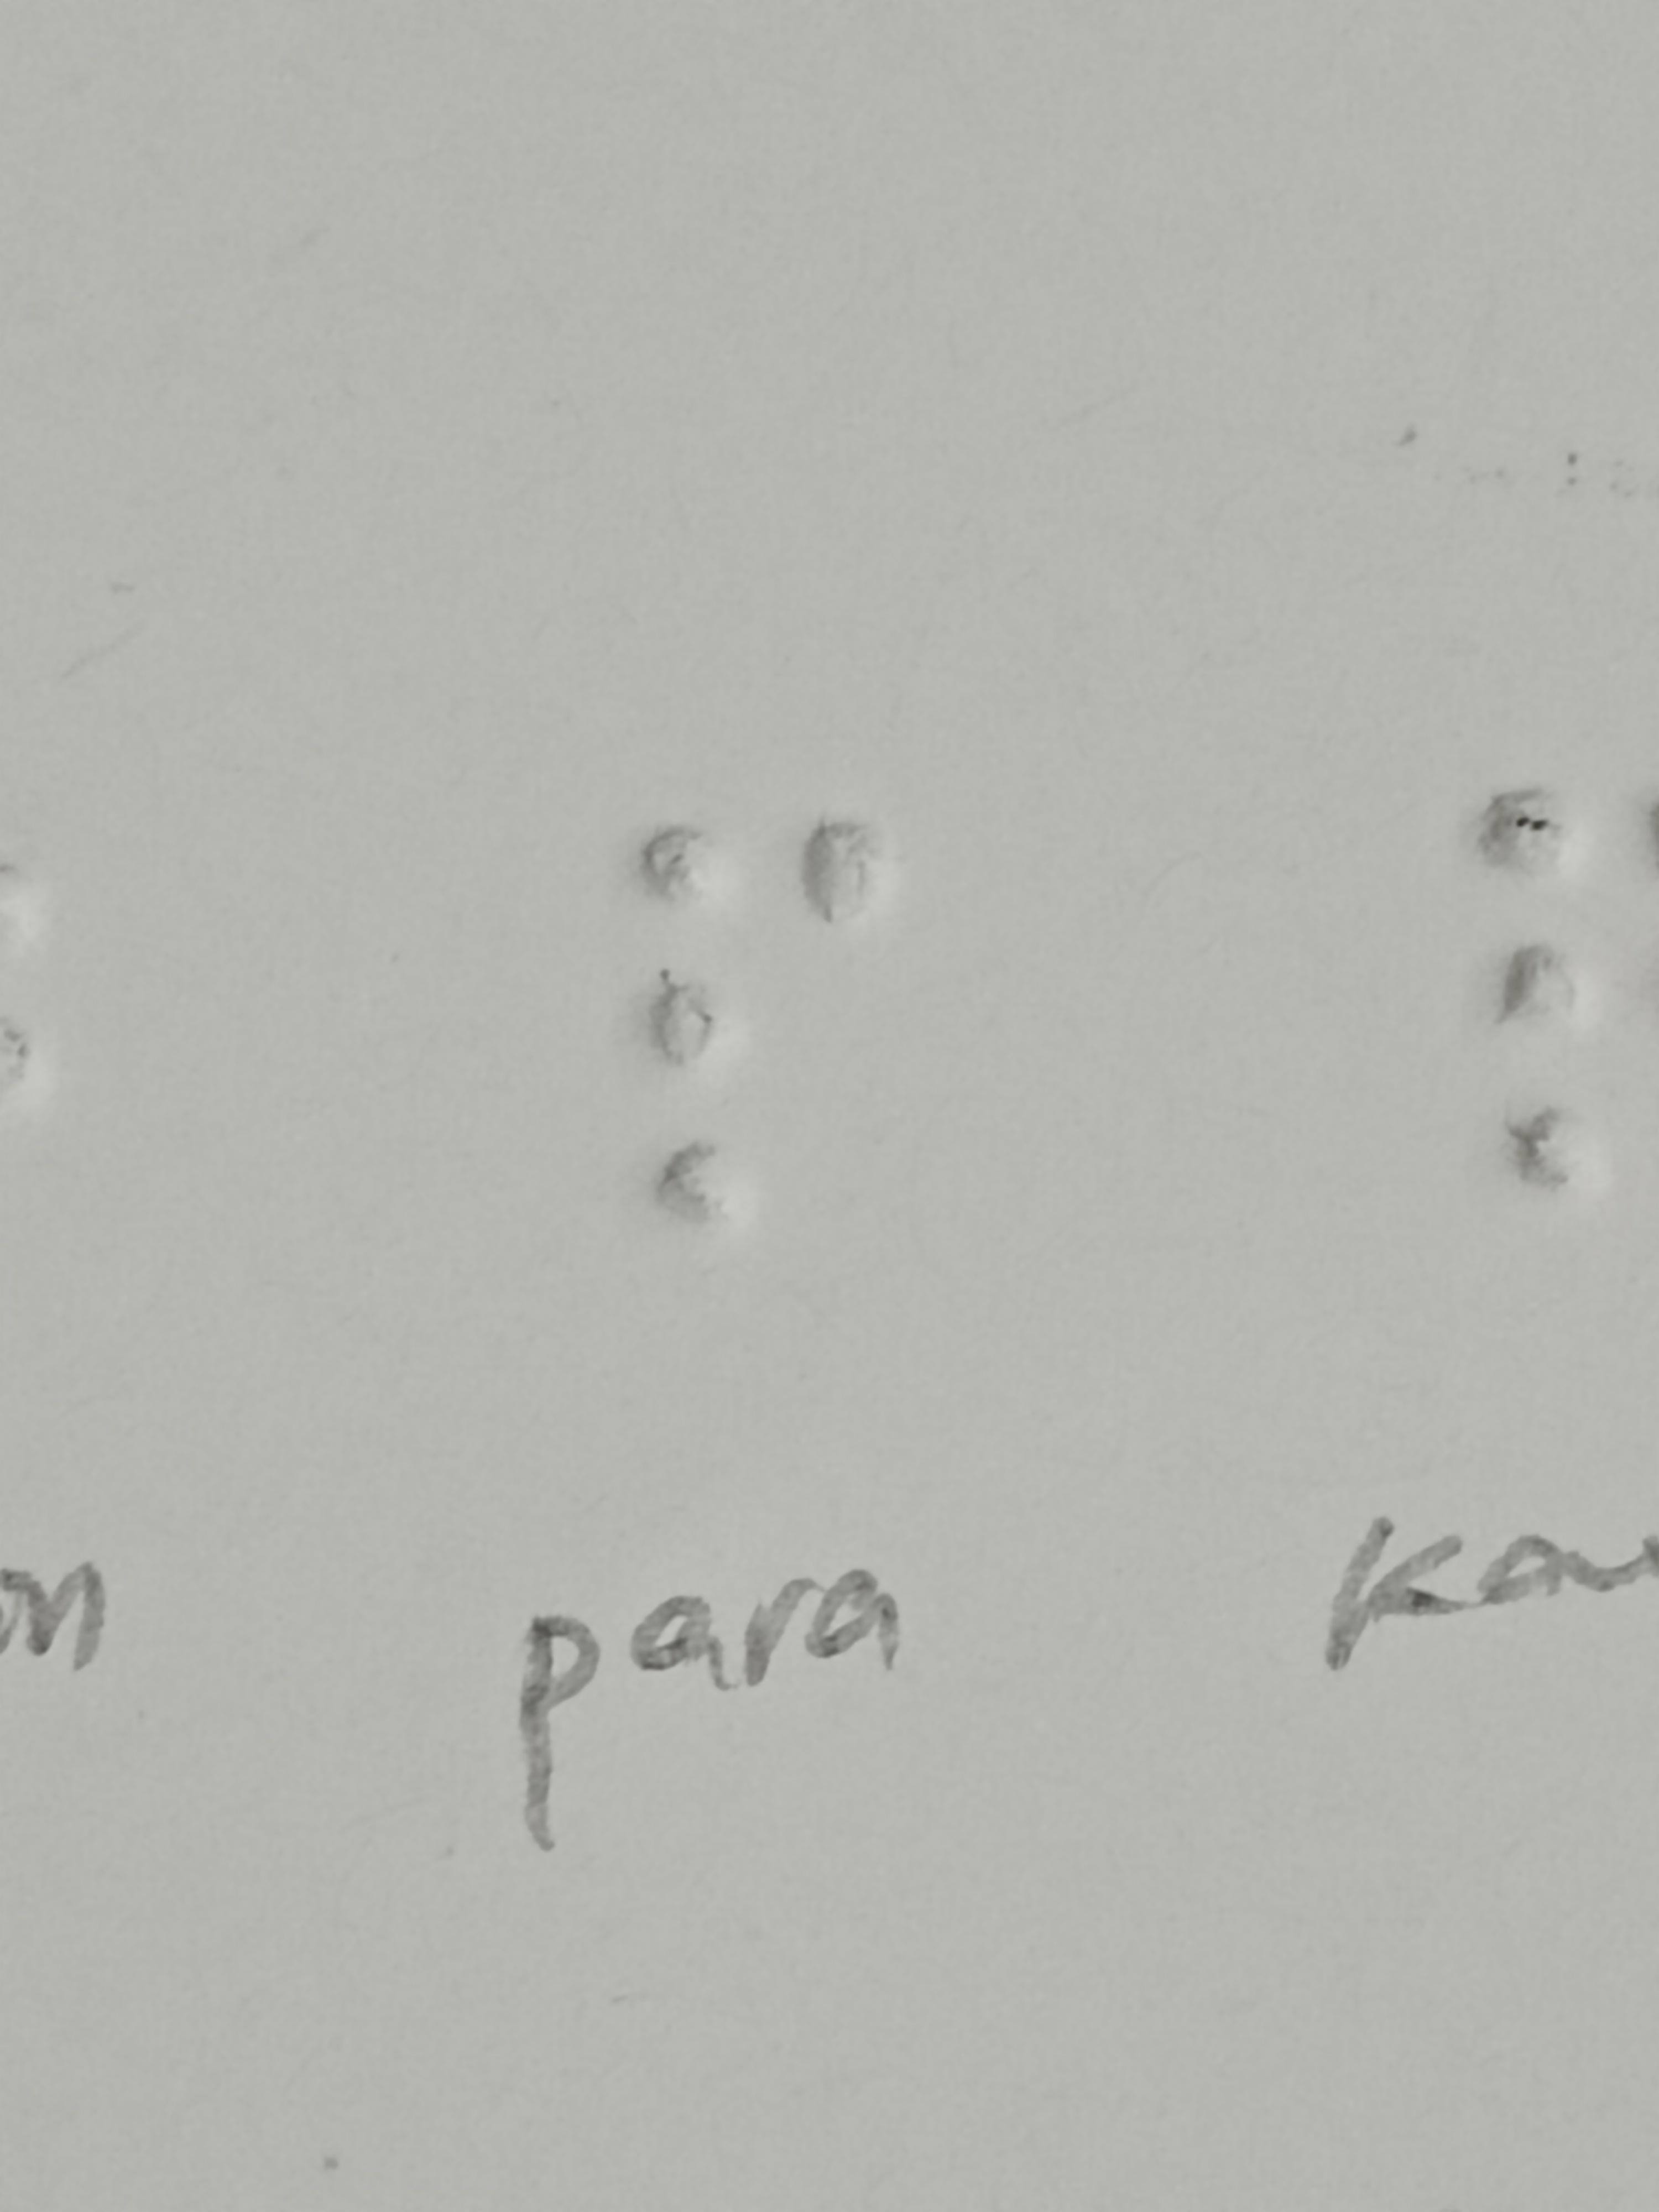one_cell_alphabet_para: (631, 820, 899, 1242)
